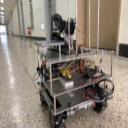cart: (34, 49, 117, 127)
